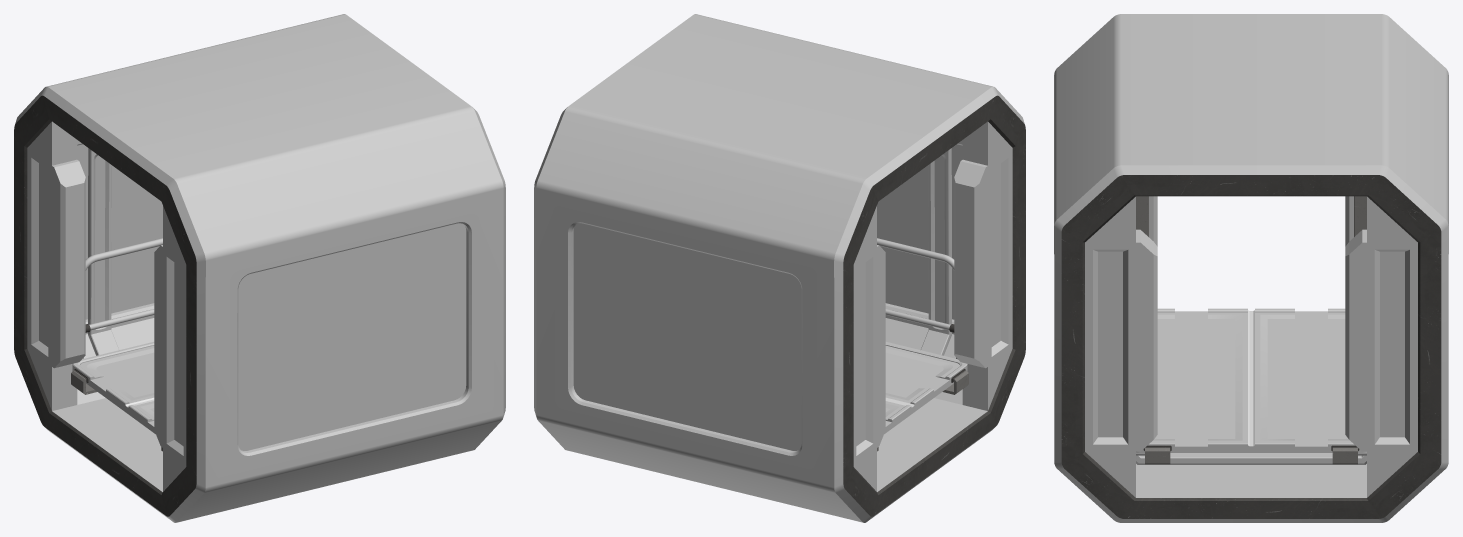
File: KB3D_MTM_PropTunnelConnector_A.fbx
The picture shows the model from 3 angles, left to right: view 1: azimuth 30°, elevation 25°; view 2: azimuth 150°, elevation 25°; view 3: azimuth 270°, elevation 25°; orthographic projection. The views are drawn at different scales.
Visible parts, largest first — view 1: KB3D_MTM_PropTunnelConnector_A_Main; view 2: KB3D_MTM_PropTunnelConnector_A_Main; view 3: KB3D_MTM_PropTunnelConnector_A_Main.
Part boxes in pixels (box(x1,y1,x2,y2)): KB3D_MTM_PropTunnelConnector_A_Main: box(14, 14, 505, 522); KB3D_MTM_PropTunnelConnector_A_Main: box(534, 14, 1025, 522); KB3D_MTM_PropTunnelConnector_A_Main: box(1054, 14, 1448, 522).
Bounding box in the file's own units: 300 × 318 × 318.
